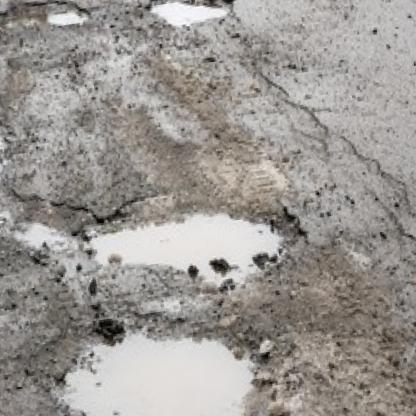pothole: (77, 191, 297, 308), (38, 308, 271, 416), (0, 0, 92, 38), (144, 0, 238, 34)
